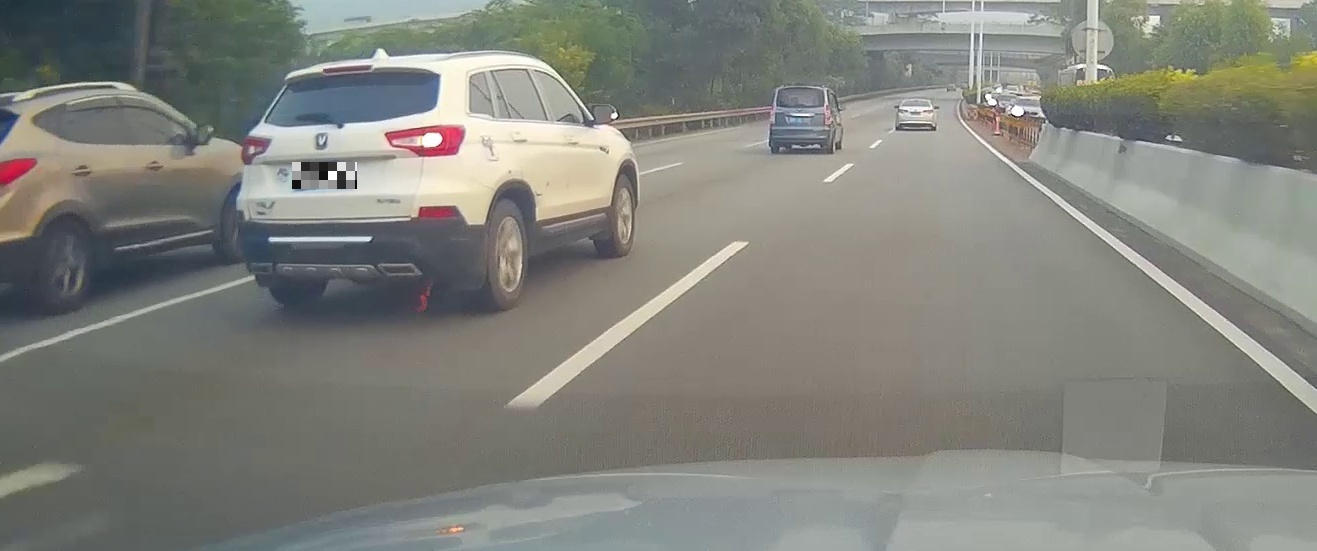L_light: (241, 134, 272, 165), (770, 103, 776, 124), (898, 109, 908, 112)
R_light: (384, 123, 467, 157), (825, 104, 831, 124), (924, 110, 933, 113)
T_light: (322, 64, 373, 74), (795, 104, 806, 107), (914, 100, 921, 102)
day-no: (768, 86, 833, 153), (896, 98, 937, 130)
day-right: (234, 55, 473, 311)
plate_1: (292, 162, 357, 189)
